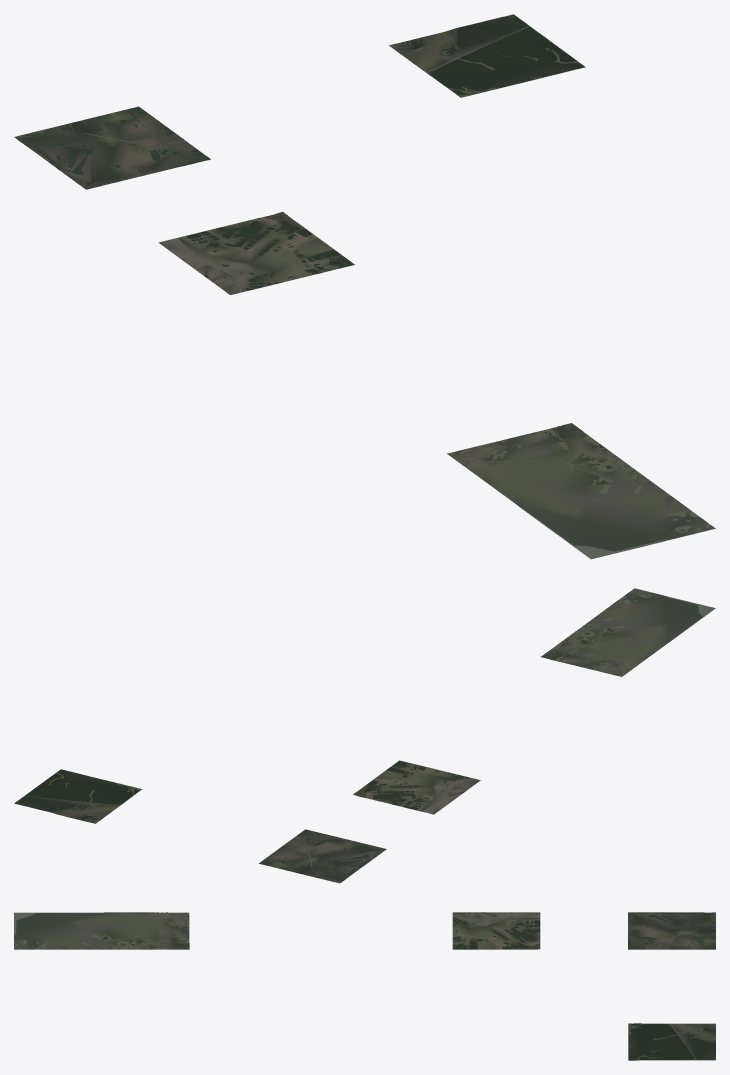
3 renders of one model, top to bottom at view 1: azimuth 30°, elevation 25°; view 2: azimuth 150°, elevation 25°; view 3: azimuth 270°, elevation 25°, orthographic. The views are drawn at different scales.
Visible parts, largest first — view 1: ground, water; view 2: ground, water; view 3: ground, water.
Part boxes in pixels (<box>): ground: <box>14,14,715,557</box>; water: <box>18,14,710,559</box>; ground: <box>14,588,702,883</box>; water: <box>14,590,715,881</box>; ground: <box>14,912,715,1060</box>; water: <box>14,912,715,1060</box>.
Bounding box in the file's own units: 5611 × 15.73 × 11205.
